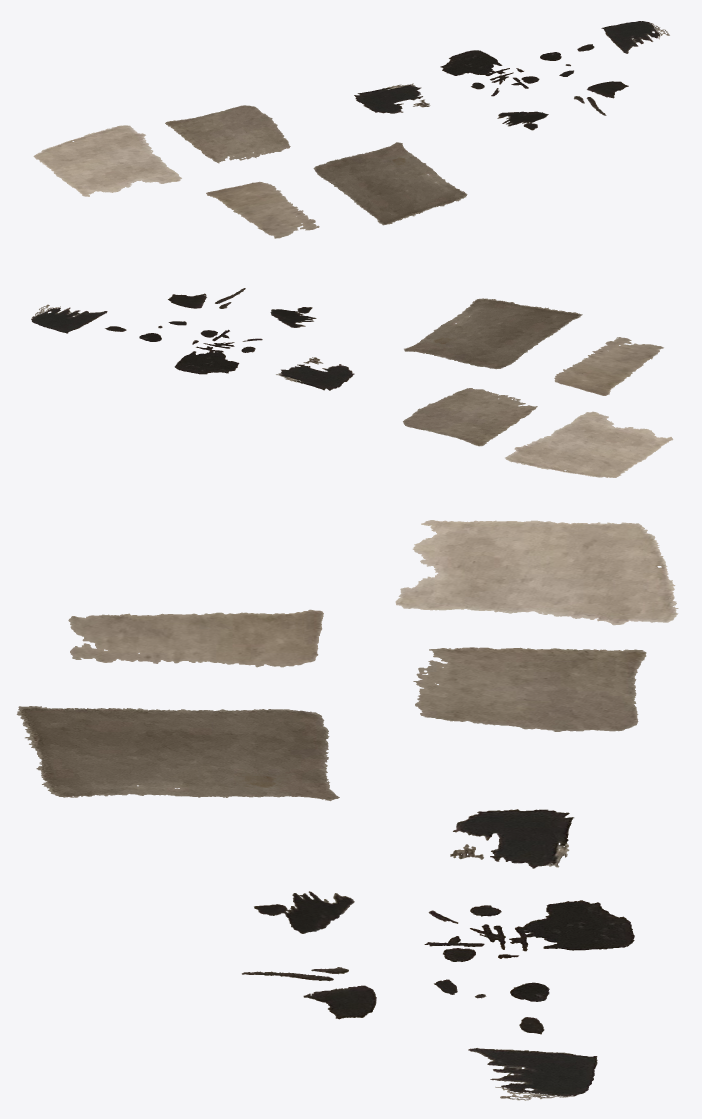
File: 墨迹model.fbx
3 renders of one model, top to bottom at view 1: azimuth 30°, elevation 25°; view 2: azimuth 150°, elevation 25°; view 3: azimuth 270°, elevation 25°, orthographic. The views are drawn at different scales.
Visible parts, largest first — view 1: pPlane3, pPlane1, pPlane4, pPlane2, pPlane12, pPlane6, pPlane5, pPlane8, pPlane7; view 2: pPlane3, pPlane1, pPlane4, pPlane2, pPlane12, pPlane6, pPlane5, pPlane7, pPlane8; view 3: pPlane3, pPlane1, pPlane4, pPlane2, pPlane12, pPlane6, pPlane5, pPlane8, pPlane7.
Boxes of the visible parts, x1=… form: pPlane3: x1=313, y1=142, x2=467, y2=225; pPlane1: x1=33, y1=125, x2=181, y2=196; pPlane4: x1=165, y1=105, x2=290, y2=163; pPlane2: x1=206, y1=181, x2=319, y2=238; pPlane12: x1=440, y1=50, x2=539, y2=96; pPlane6: x1=354, y1=83, x2=430, y2=113; pPlane5: x1=601, y1=21, x2=669, y2=53; pPlane8: x1=574, y1=81, x2=628, y2=115; pPlane7: x1=497, y1=111, x2=548, y2=130; pPlane3: x1=404, y1=298, x2=582, y2=369; pPlane1: x1=505, y1=411, x2=673, y2=477; pPlane4: x1=403, y1=388, x2=537, y2=446; pPlane2: x1=554, y1=337, x2=663, y2=395; pPlane12: x1=174, y1=329, x2=262, y2=374; pPlane6: x1=276, y1=357, x2=354, y2=390; pPlane5: x1=31, y1=304, x2=107, y2=333; pPlane7: x1=270, y1=307, x2=316, y2=327; pPlane8: x1=168, y1=288, x2=245, y2=308; pPlane3: x1=16, y1=706, x2=339, y2=801; pPlane1: x1=395, y1=520, x2=678, y2=625; pPlane4: x1=413, y1=647, x2=646, y2=731; pPlane2: x1=68, y1=609, x2=323, y2=667; pPlane12: x1=424, y1=900, x2=634, y2=961; pPlane6: x1=450, y1=809, x2=574, y2=868; pPlane5: x1=468, y1=1048, x2=597, y2=1100; pPlane8: x1=241, y1=967, x2=376, y2=1019; pPlane7: x1=254, y1=891, x2=354, y2=933.
Bounding box in the file's own units: 8.71 × 4.2e-16 × 4.22.
